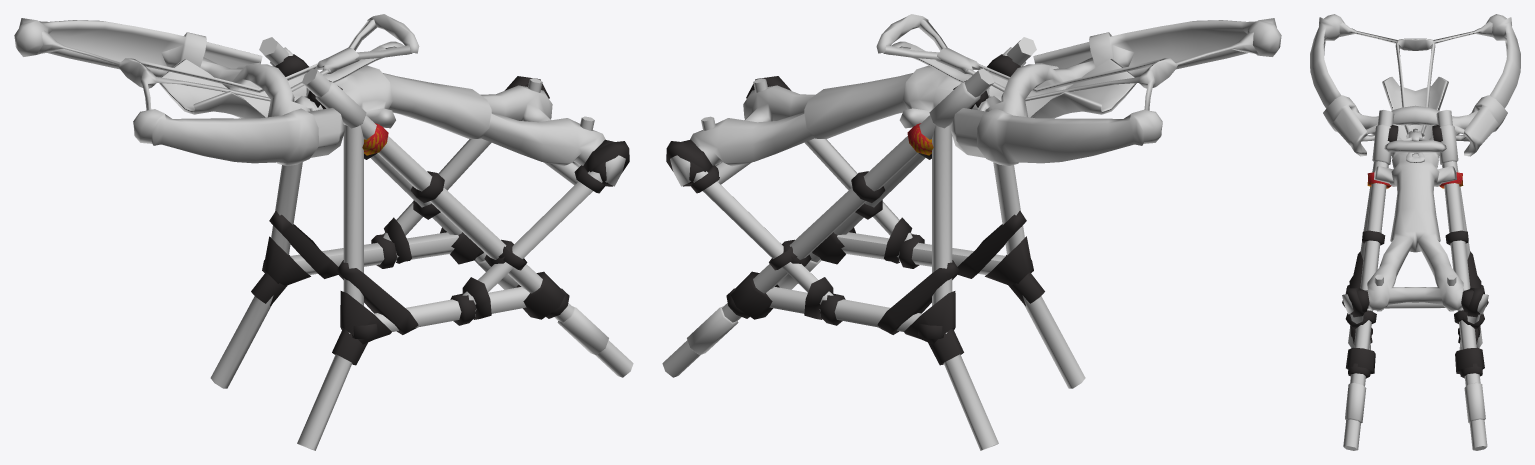
Rendered from ballistaGrenade.fbx.
3 views of the same model, side by side, from view 1: azimuth 30°, elevation 25°; view 2: azimuth 150°, elevation 25°; view 3: azimuth 270°, elevation 25° (orthographic). The views are drawn at different scales.
Parts seen in each view (by area): view 1: ballistaGrenade_LOD0, ballistaGrenadeFrame_LOD0, ballistaGrenadeRope_LOD0; view 2: ballistaGrenade_LOD0, ballistaGrenadeFrame_LOD0, ballistaGrenadeRope_LOD0; view 3: ballistaGrenade_LOD0, ballistaGrenadeFrame_LOD0, ballistaGrenadeRope_LOD0.
Part boxes in pixels (x1,y1,x2,y2): ballistaGrenade_LOD0: (14,14,625,186); ballistaGrenadeFrame_LOD0: (210,37,633,450); ballistaGrenadeRope_LOD0: (251,54,629,365); ballistaGrenade_LOD0: (670,14,1281,186); ballistaGrenadeFrame_LOD0: (662,37,1085,450); ballistaGrenadeRope_LOD0: (666,54,1044,365); ballistaGrenade_LOD0: (1310,14,1520,314); ballistaGrenadeFrame_LOD0: (1343,110,1487,450); ballistaGrenadeRope_LOD0: (1342,125,1488,378).
Size of the model in its own units: 2.98 by 2.2 by 1.54.
